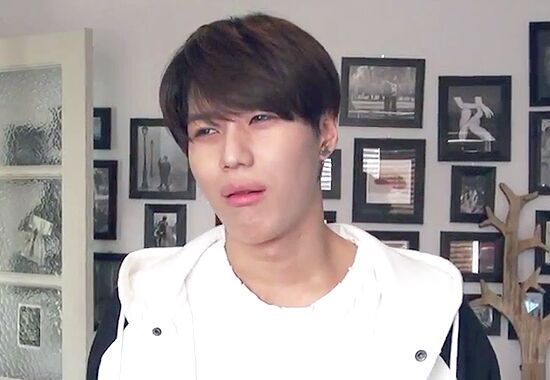confused: (174, 92, 316, 245)
